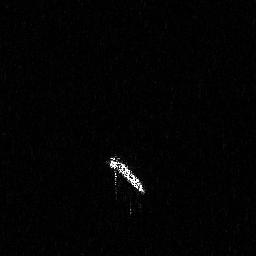ship: (105, 152, 149, 216)
